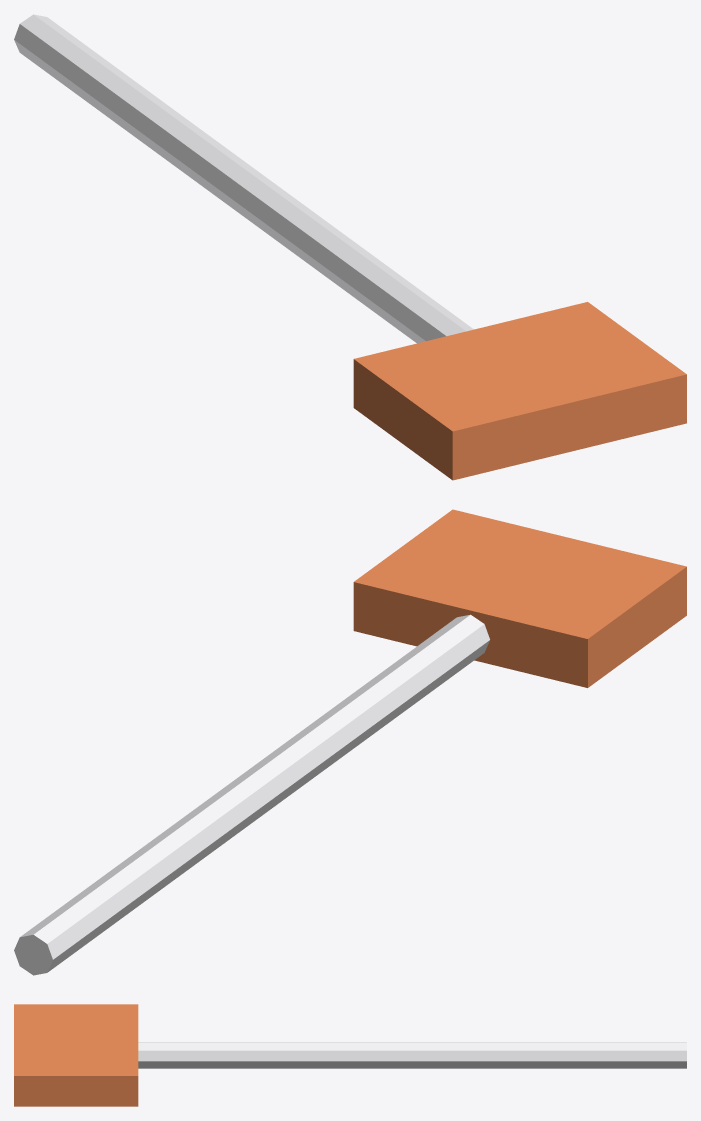
Rendered from marker.glb.
The picture shows the model from 3 angles, top to bottom: view 1: azimuth 30°, elevation 25°; view 2: azimuth 150°, elevation 25°; view 3: azimuth 270°, elevation 25°; orthographic projection. The views are drawn at different scales.
Visible parts, largest first — view 1: marker_head, marker; view 2: marker_head, marker; view 3: marker, marker_head.
Boxes of the visible parts, box(x1,y1,x2,y2) form: marker_head: box(353, 302, 686, 480); marker: box(14, 14, 473, 343); marker_head: box(353, 509, 686, 687); marker: box(14, 614, 489, 975); marker: box(138, 1042, 686, 1068); marker_head: box(14, 1004, 138, 1106).
Size of the model in its own units: 0.3 by 0.06 by 1.19.
